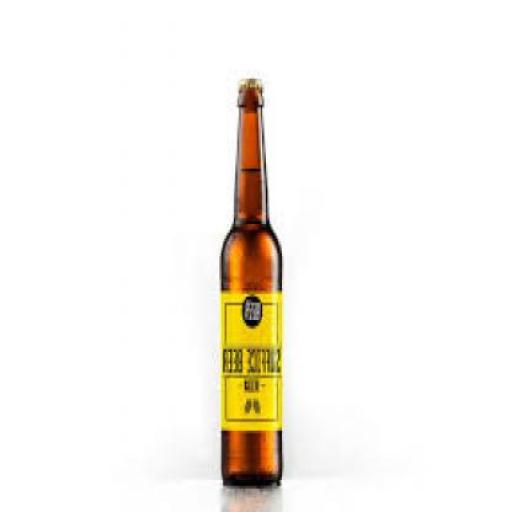glass: (223, 84, 284, 486)
metal: (241, 73, 266, 85)
